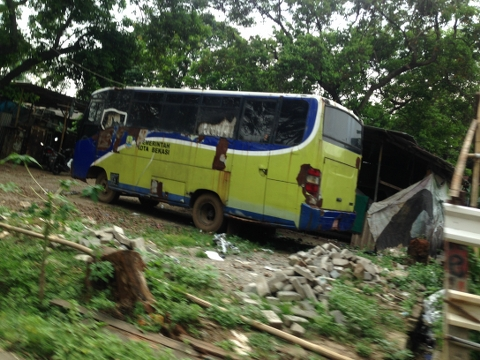mobil: (71, 85, 363, 234)
